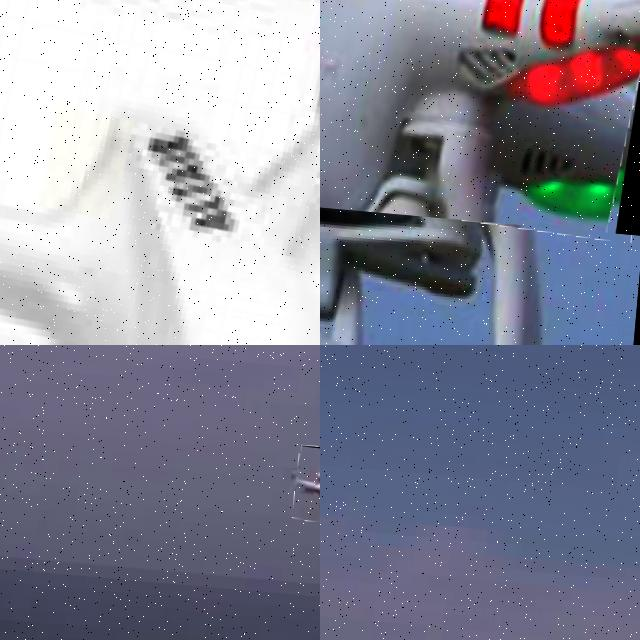drone: (0, 0, 320, 345), (320, 0, 640, 235), (292, 445, 320, 526)
